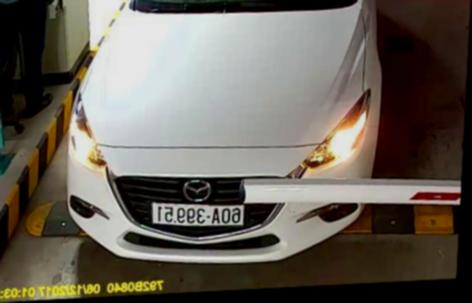License_Plate: (148, 195, 245, 231)
